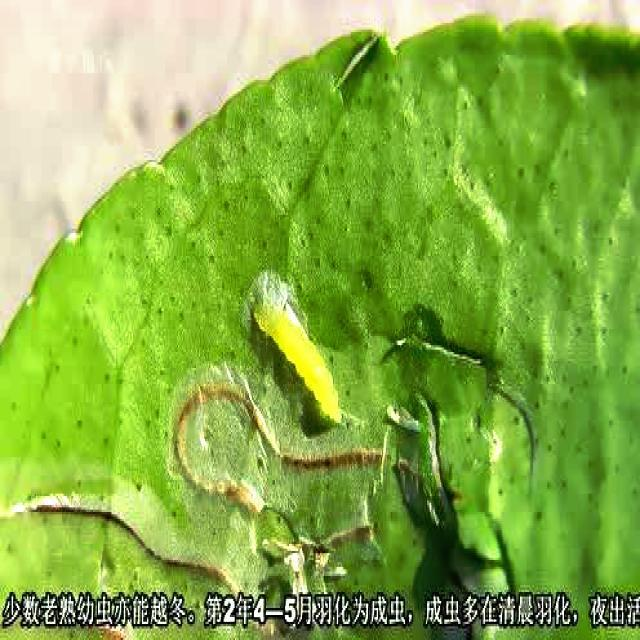whorl-maggot: (241, 253, 348, 429)
